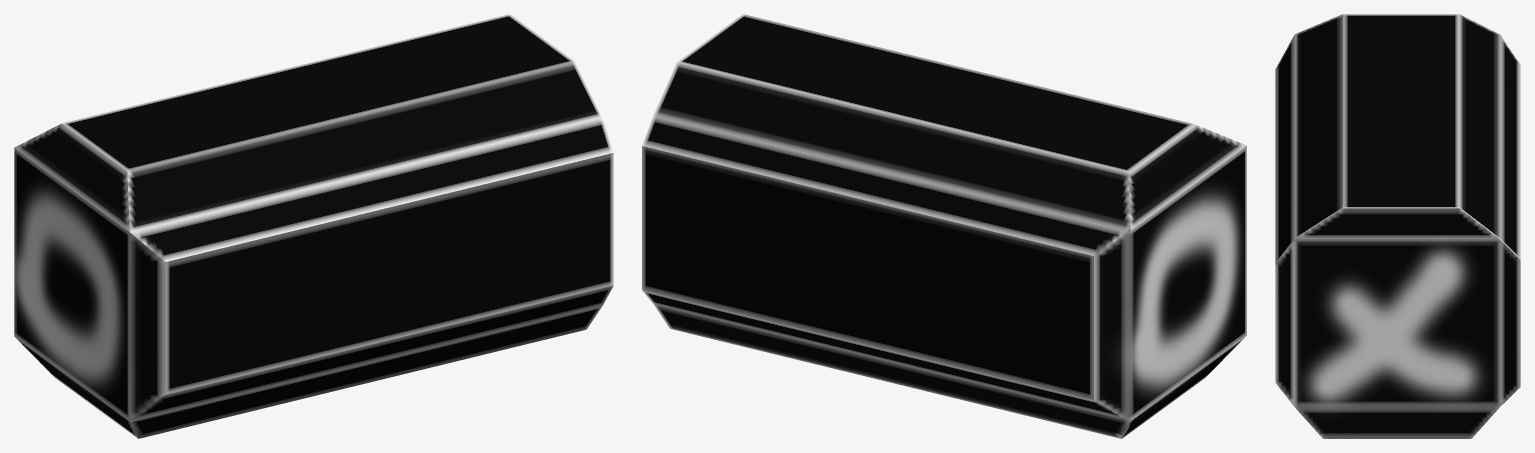
Rendered from cannon.fbx.
The picture shows the model from 3 angles, left to right: view 1: azimuth 30°, elevation 25°; view 2: azimuth 150°, elevation 25°; view 3: azimuth 270°, elevation 25°; orthographic projection. The views are drawn at different scales.
Visible parts, largest first — view 1: pCube1; view 2: pCube1; view 3: pCube1.
Part boxes in pixels (left/top/right/bottom): pCube1: left=14, top=14, right=613, bottom=438; pCube1: left=642, top=14, right=1246, bottom=438; pCube1: left=1275, top=14, right=1520, bottom=438.
Size of the model in its own units: 1.99 by 1.04 by 1.01.
